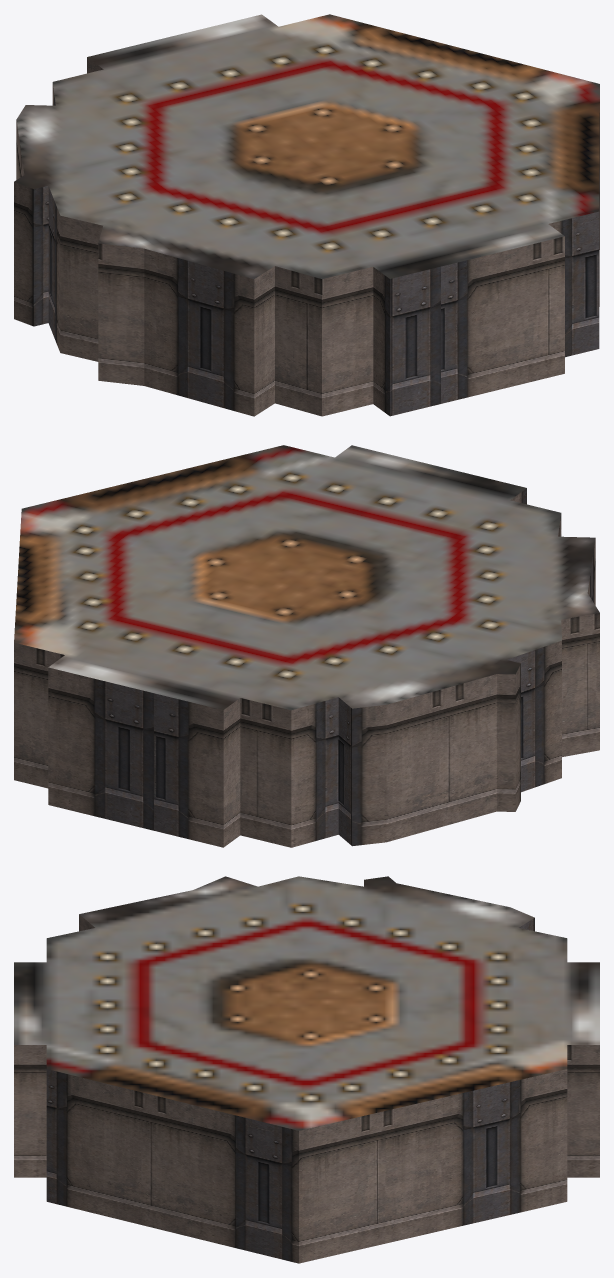
Rendered from bsealed_heavy_a_57.glb.
3 views of the same model, one above another, from view 1: azimuth 30°, elevation 25°; view 2: azimuth 150°, elevation 25°; view 3: azimuth 270°, elevation 25° (orthographic). The views are drawn at different scales.
Parts seen in each view (by area): view 1: buildings/saxarba/bsealed_heavy/bsealed_heavy_a_57; view 2: buildings/saxarba/bsealed_heavy/bsealed_heavy_a_57; view 3: buildings/saxarba/bsealed_heavy/bsealed_heavy_a_57.
Boxes of the visible parts, x1=… form: buildings/saxarba/bsealed_heavy/bsealed_heavy_a_57: x1=14, y1=14, x2=599, y2=416; buildings/saxarba/bsealed_heavy/bsealed_heavy_a_57: x1=14, y1=445, x2=599, y2=847; buildings/saxarba/bsealed_heavy/bsealed_heavy_a_57: x1=14, y1=876, x2=599, y2=1263.
Size of the model in its own units: 74 by 18 by 72.
